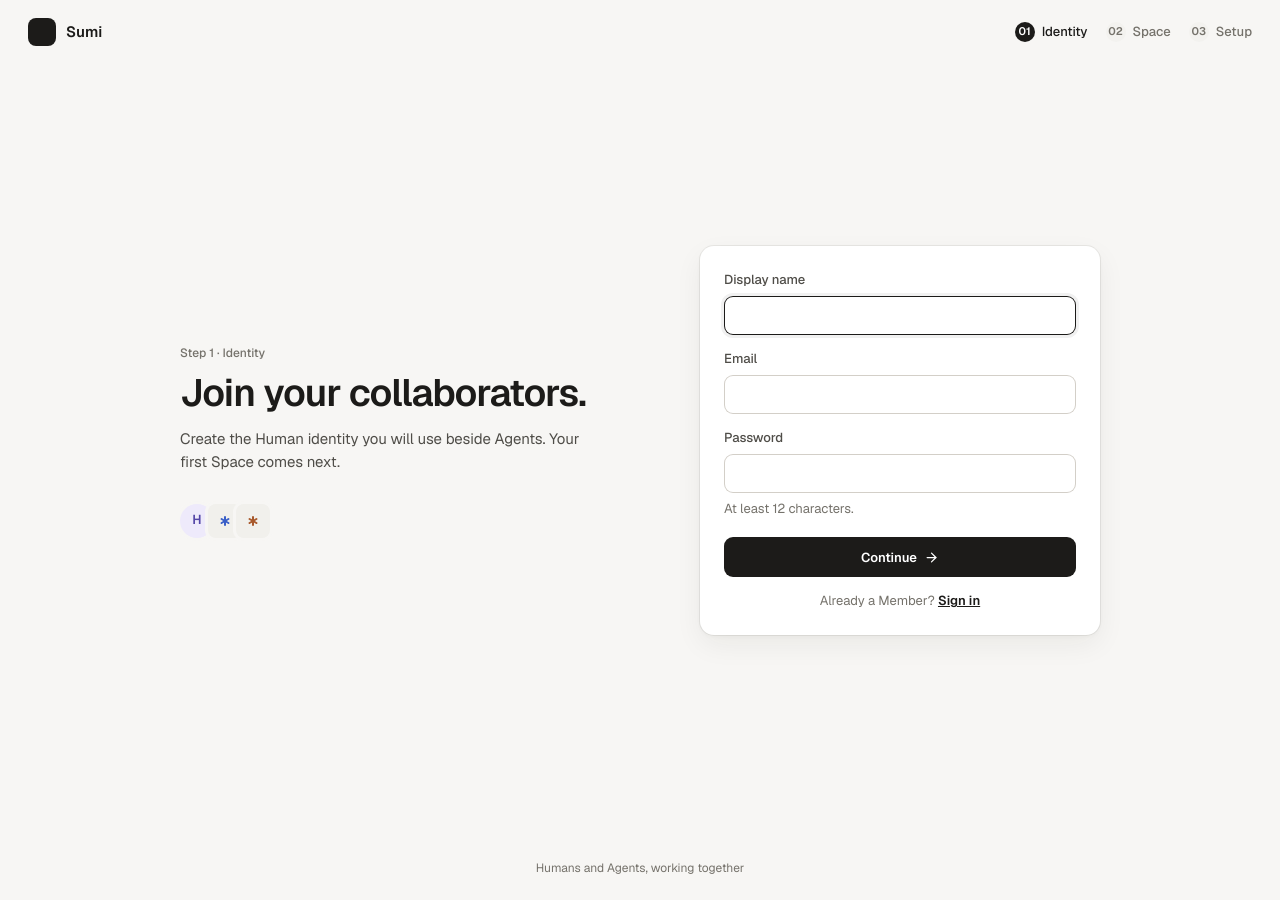
Test case: RegisterPage › reports a registration conflict without revealing that the email exists
Type "Ada" into the field labelled "Display name". click: (900, 316)
box: [724,296,1076,335]
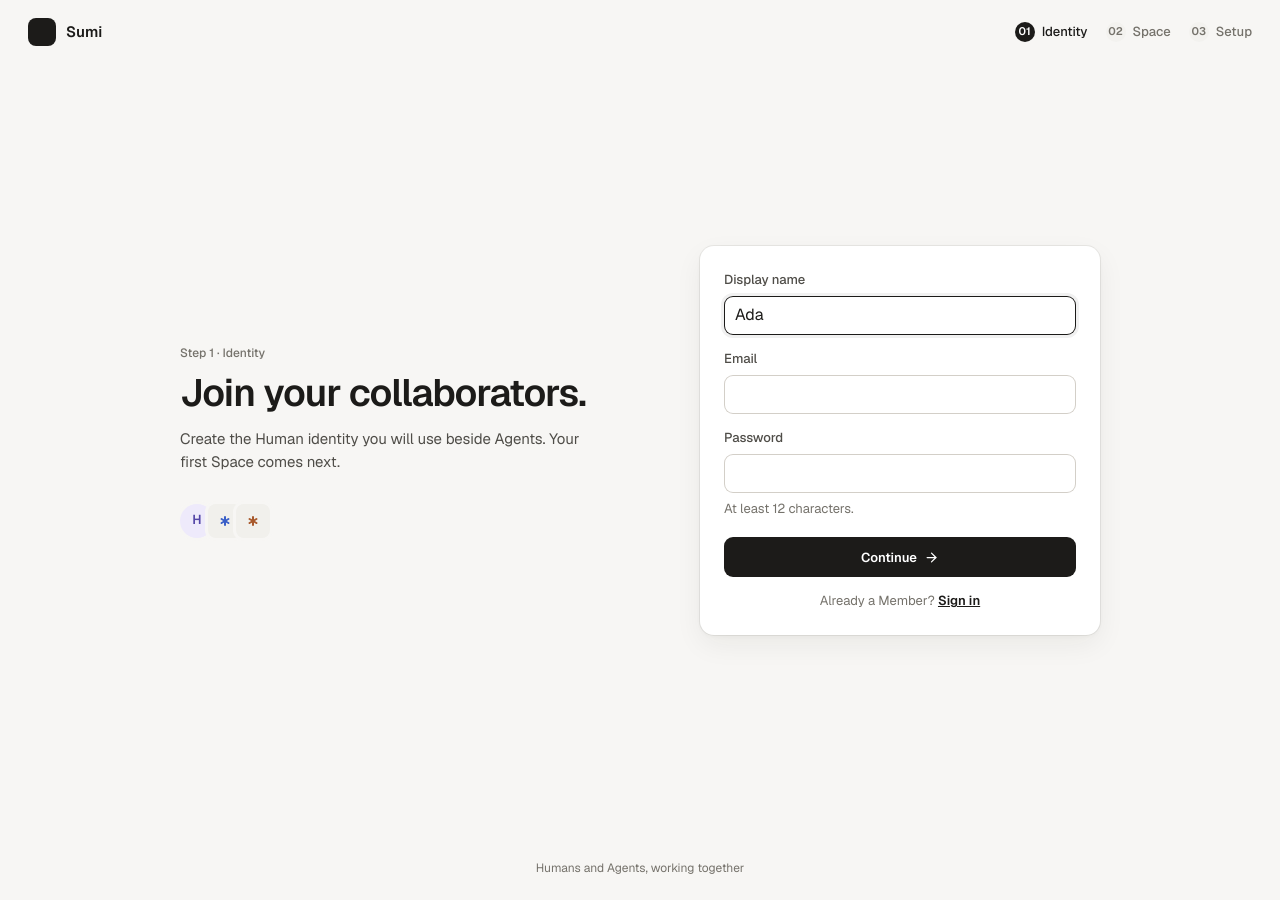
Type "ada@example.test" into the field labelled "Email". click: (900, 395)
box: [724,375,1076,414]
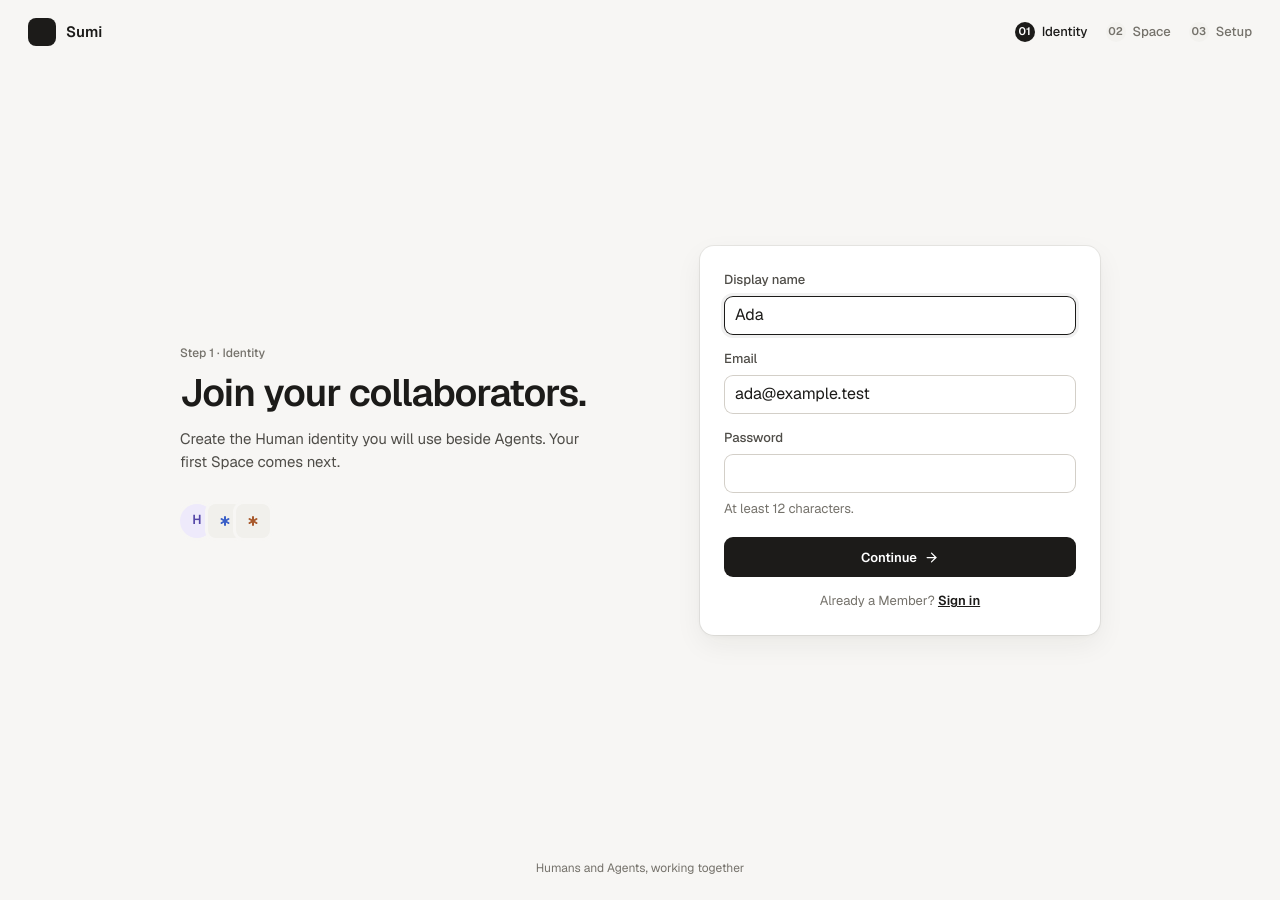
Type "correct-horse-battery" into the password field labelled "Password". click: (900, 474)
box: [724,454,1076,493]
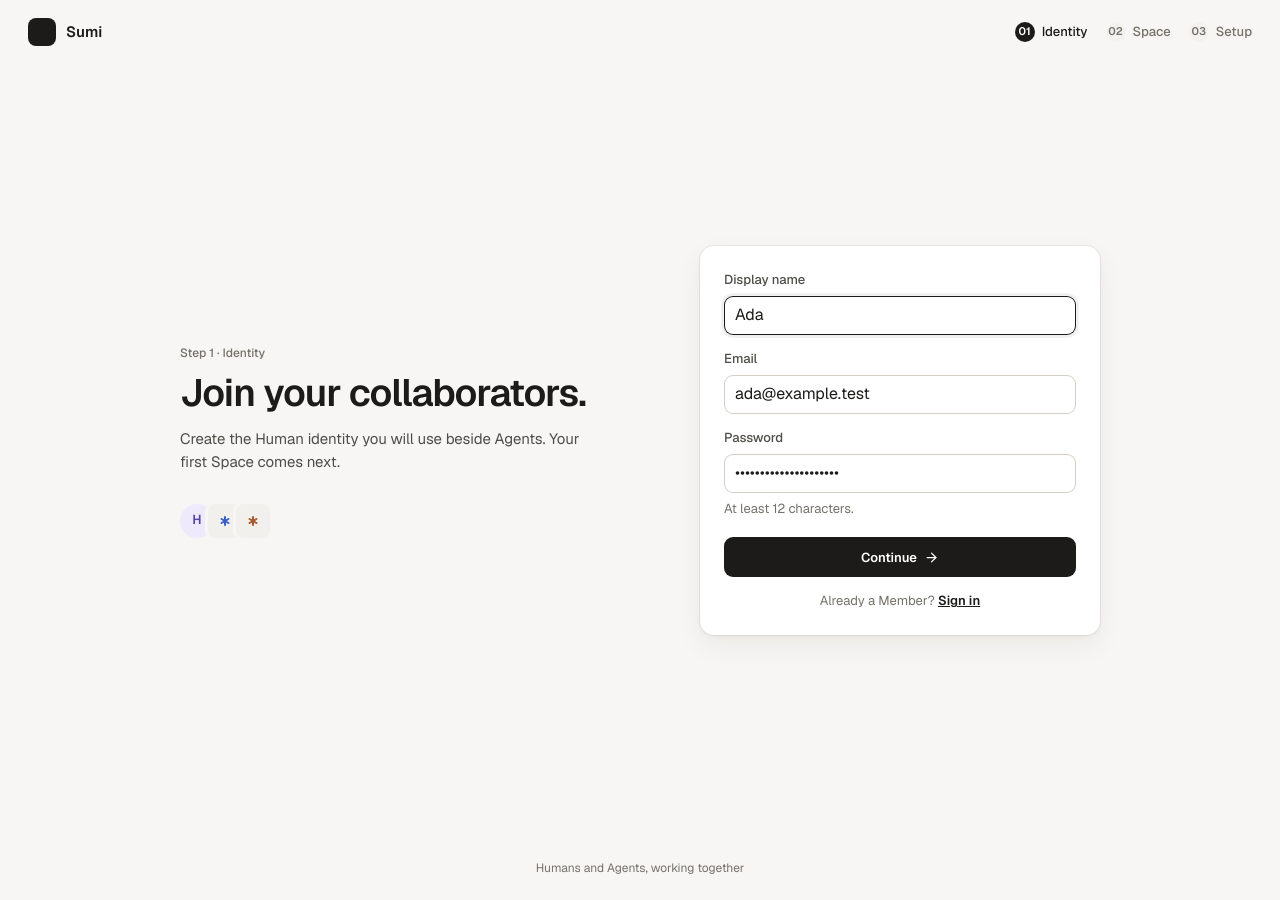
Click the button "Continue". click: (900, 557)
box: [724,537,1076,577]
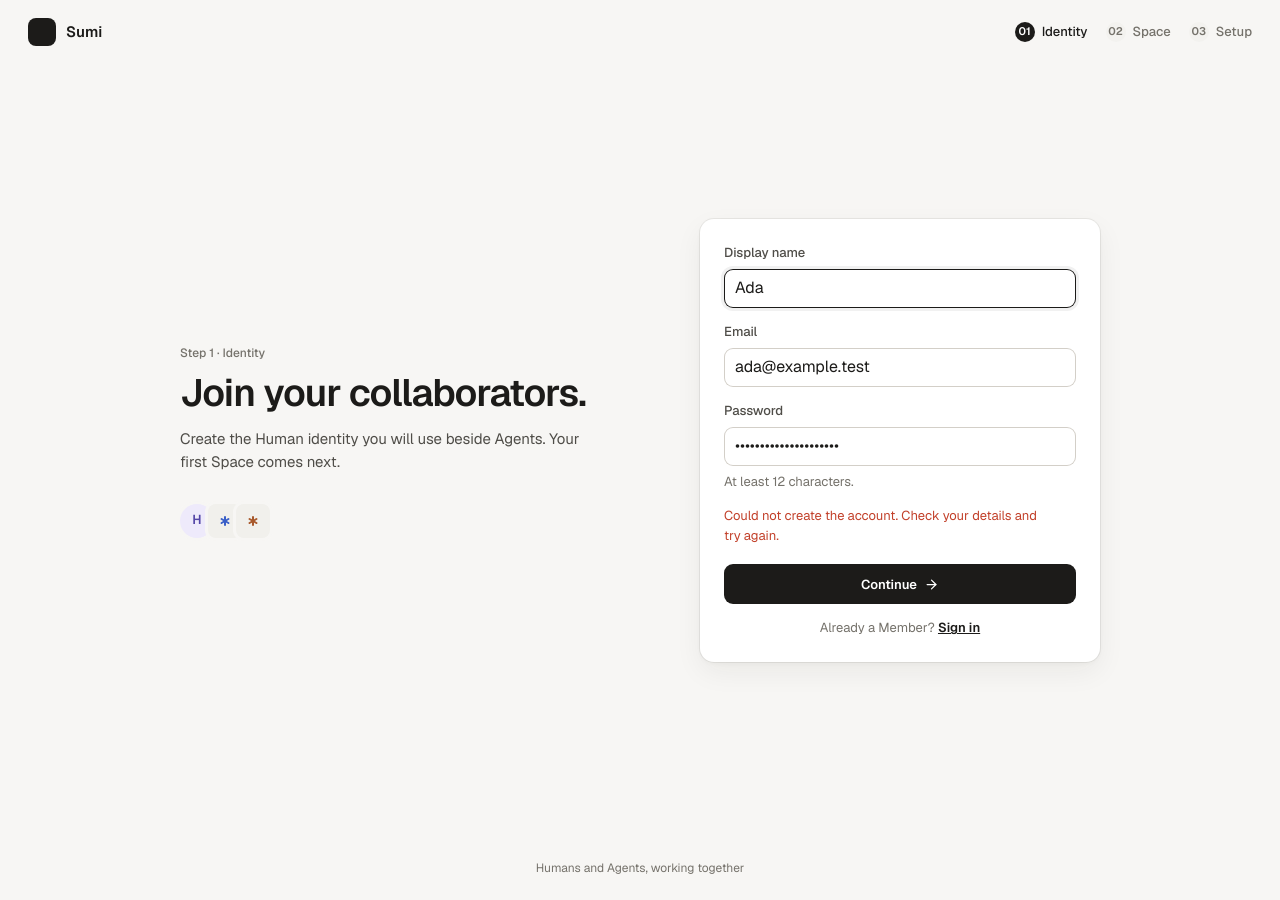
Expected: the message does not show "exists", [724,506,1076,546]
Now the message reads "Could not create the account. Check your details and try again.", box [724,507,1037,544]
